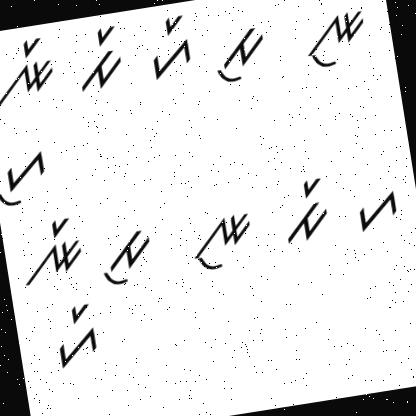ha: (346, 180, 402, 236)
har: (49, 300, 108, 372), (140, 8, 196, 82)
haw: (0, 143, 53, 210)
mbar: (271, 169, 337, 248), (70, 19, 130, 94)
mbaw: (92, 219, 160, 290), (208, 16, 274, 86)
ndar: (15, 210, 88, 290), (0, 29, 61, 107)
ndaw: (182, 201, 258, 278), (298, 2, 372, 74)
